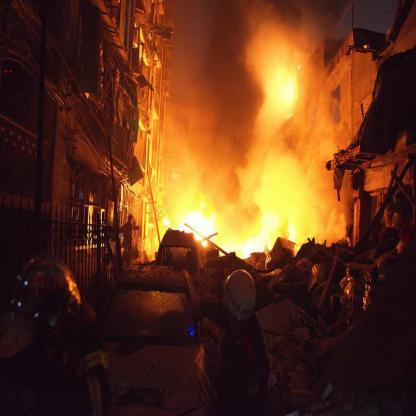fire: (169, 34, 336, 249)
